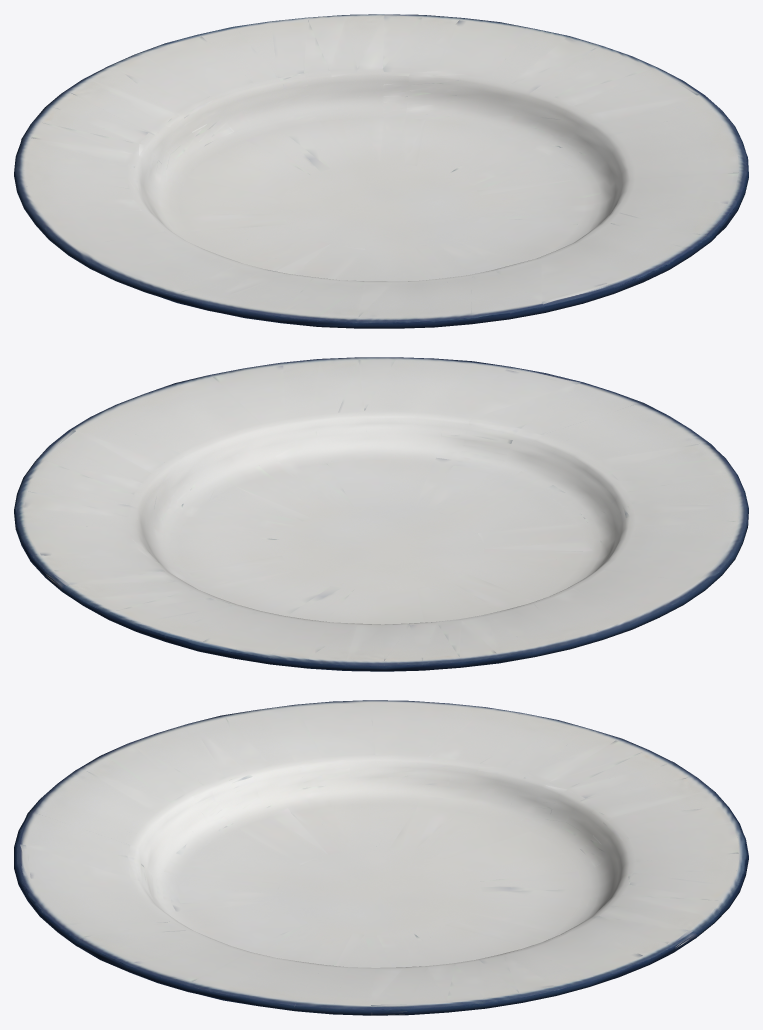
File: Blue_Banded_Dinner_Plate_0308225825_texture.glb
3 renders of one model, top to bottom at view 1: azimuth 30°, elevation 25°; view 2: azimuth 150°, elevation 25°; view 3: azimuth 270°, elevation 25°, orthographic.
Parts seen in each view (by area): view 1: Mesh_0.002; view 2: Mesh_0.002; view 3: Mesh_0.002.
Boxes of the visible parts, box(x1,y1,x2,y2) form: Mesh_0.002: box(14, 14, 748, 328); Mesh_0.002: box(14, 357, 748, 671); Mesh_0.002: box(14, 700, 748, 1015).
Size of the model in its own units: 0.3534 by 0.0254 by 0.3527.
Materials: 1 (1 with a texture image).
